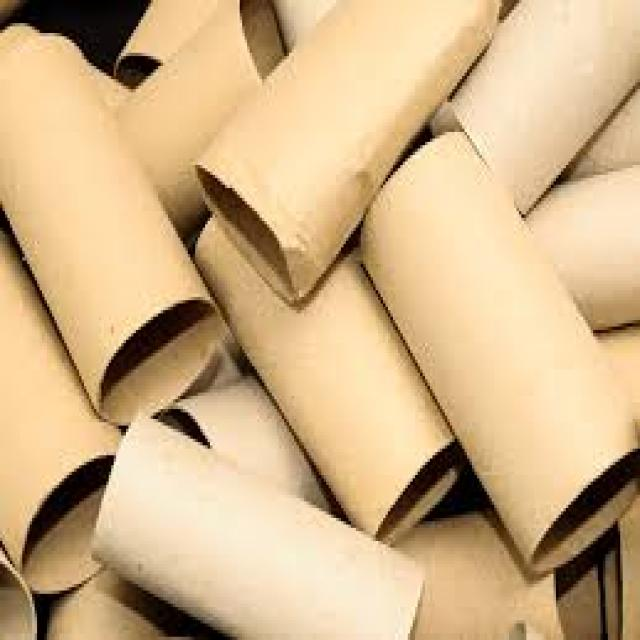Vidrio: (363, 124, 636, 556), (205, 0, 499, 289), (95, 409, 427, 640)
